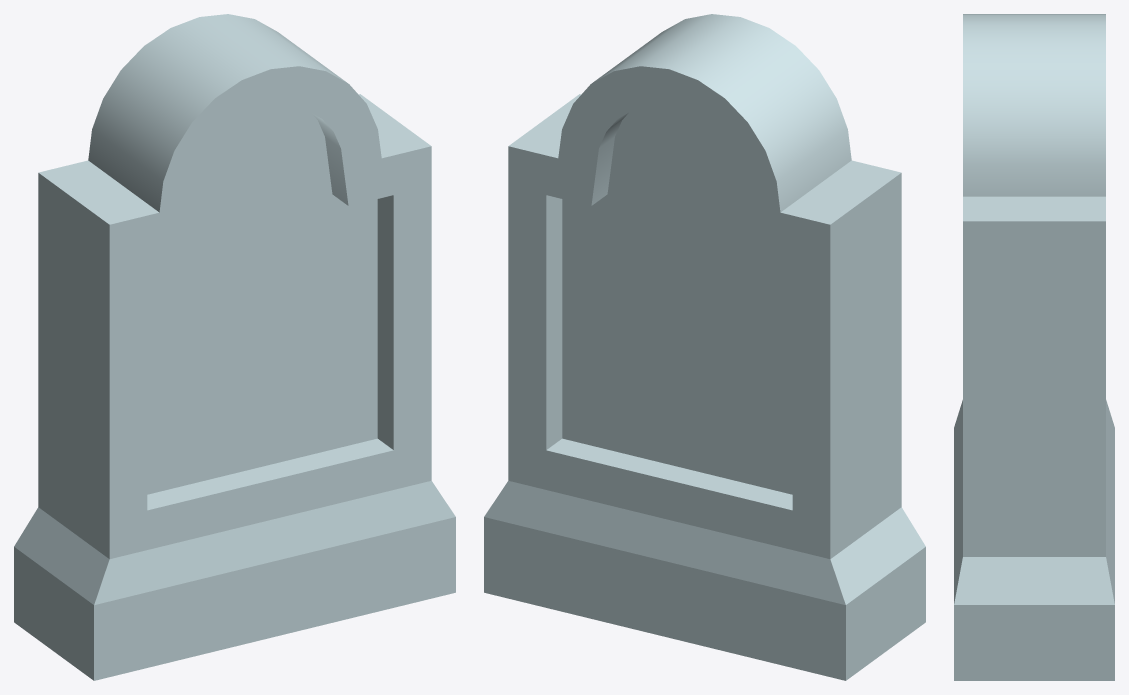
File: gravestoneBevel.glb
3 views of the same model, side by side, from view 1: azimuth 30°, elevation 25°; view 2: azimuth 150°, elevation 25°; view 3: azimuth 270°, elevation 25° (orthographic).
Visible parts, largest first — view 1: gravestoneBevel; view 2: gravestoneBevel; view 3: gravestoneBevel.
Part boxes in pixels (bbox=[...]): gravestoneBevel: bbox=[14, 14, 455, 680]; gravestoneBevel: bbox=[484, 14, 925, 680]; gravestoneBevel: bbox=[954, 14, 1114, 680].
Bounding box in the file's own units: 0.39 × 0.5812 × 0.1495.
